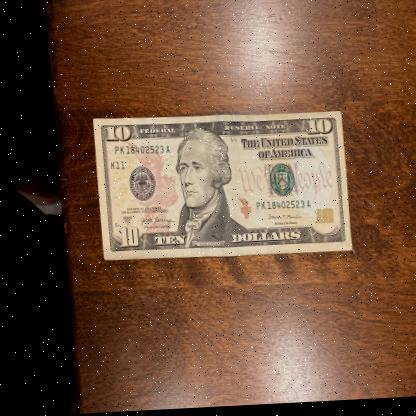ten-front: (89, 110, 349, 265)
